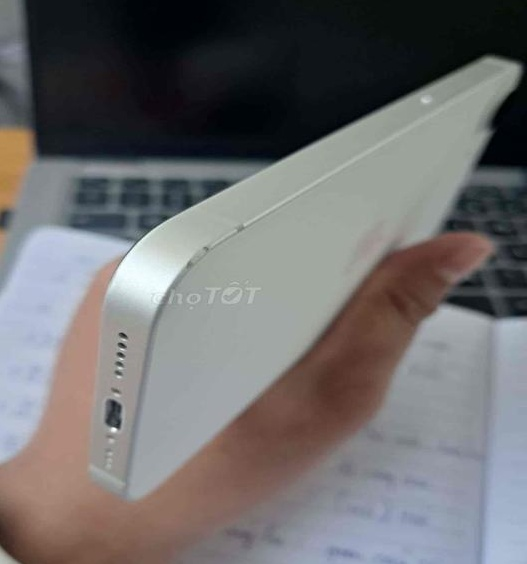scratch: (183, 243, 221, 277), (220, 222, 265, 243)
